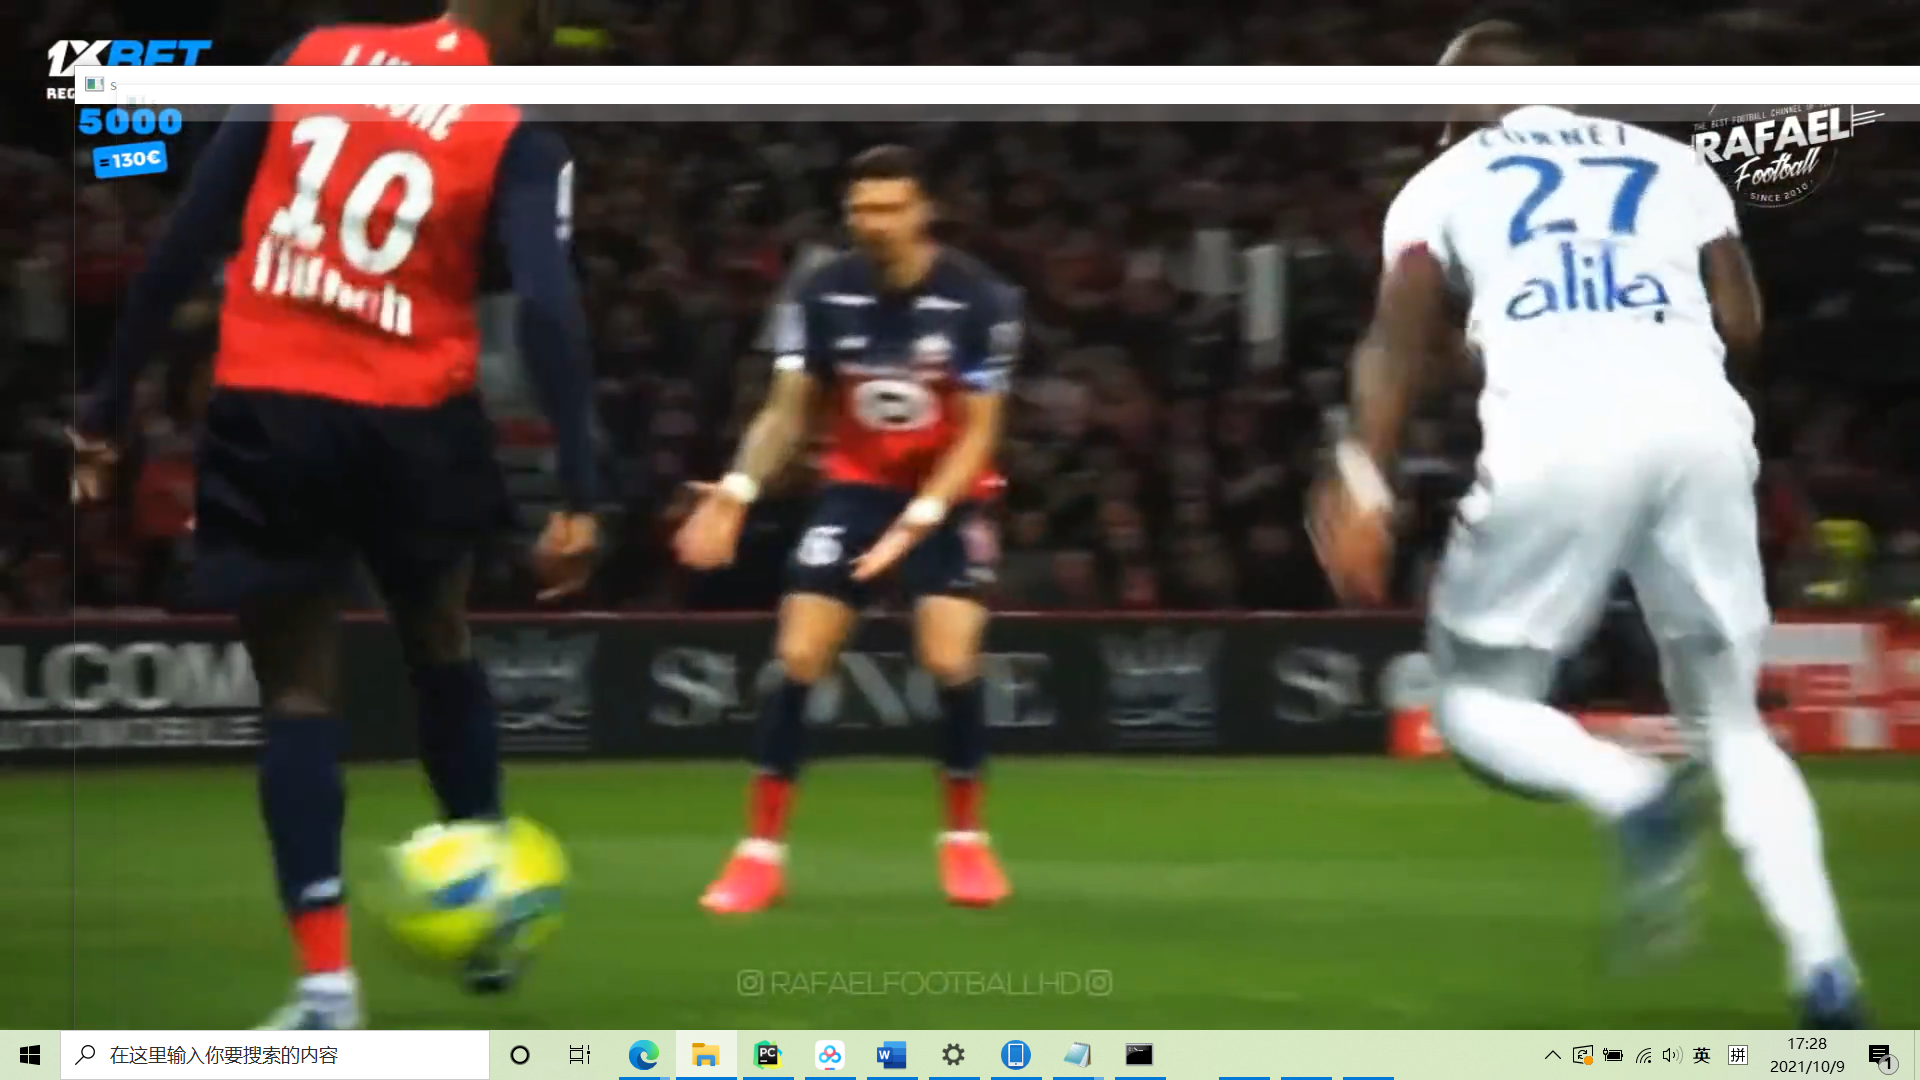ft: (376, 782, 579, 1010)
